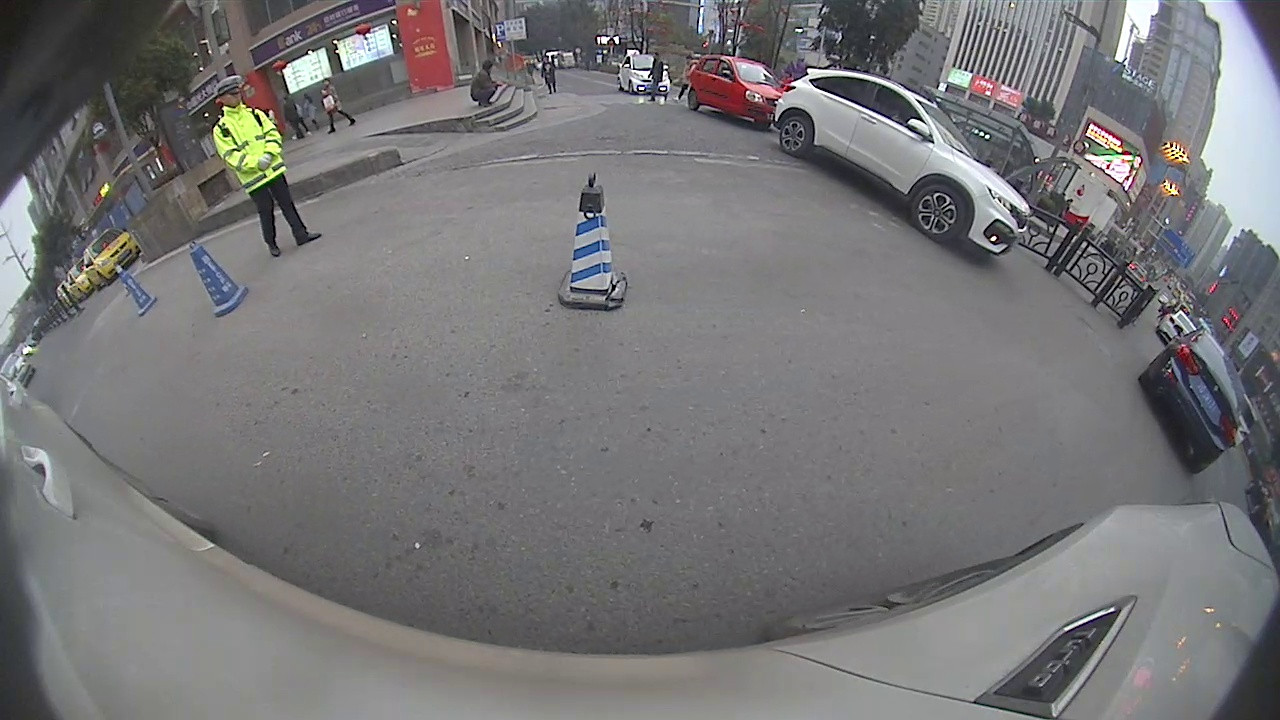car: (772, 68, 1033, 259), (1137, 327, 1243, 478), (686, 56, 777, 129), (83, 231, 140, 293)
front: (909, 181, 969, 243)
person: (214, 78, 286, 267)
rear: (775, 114, 813, 158), (685, 87, 700, 110)
